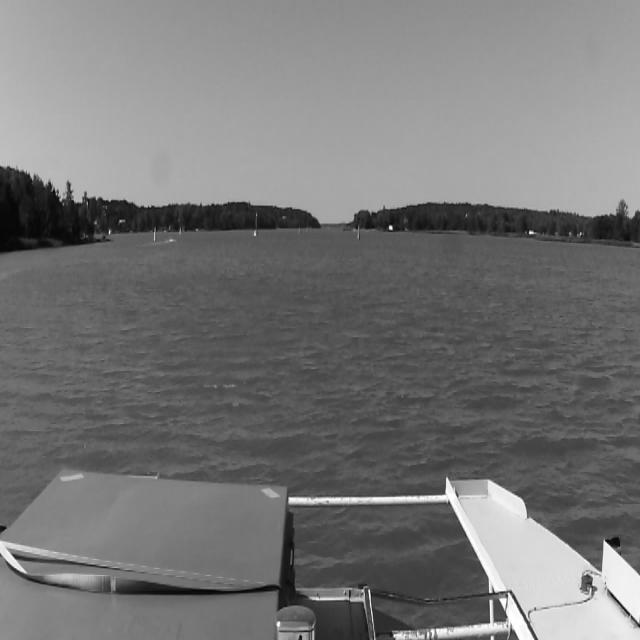buoy: (358, 226, 360, 240), (154, 229, 156, 242), (306, 226, 308, 234), (178, 228, 180, 236), (297, 228, 299, 235)
ship: (254, 212, 258, 235), (166, 235, 176, 242)
